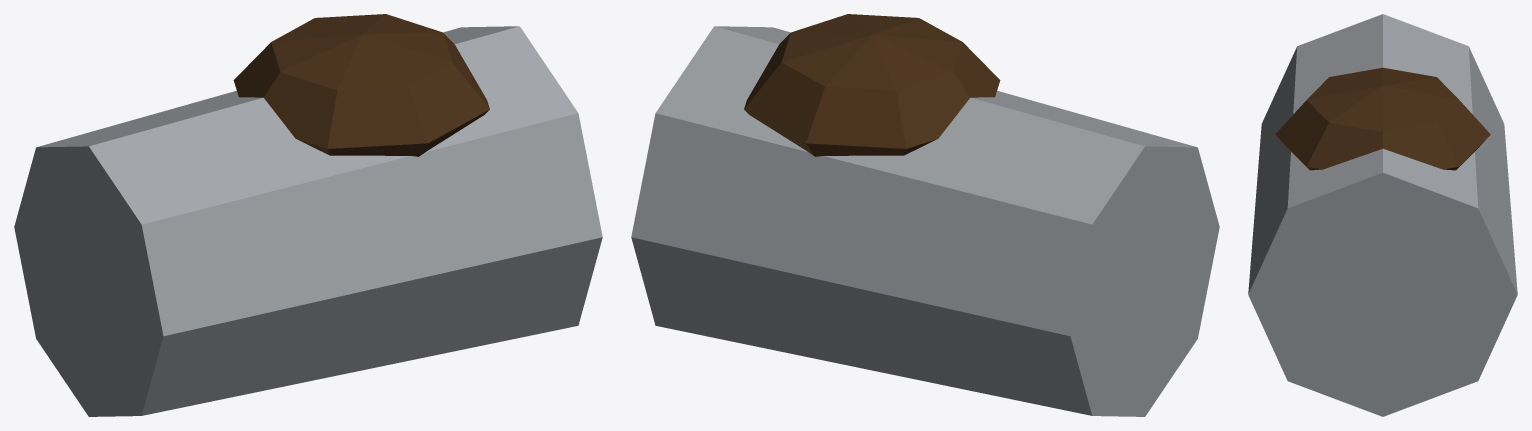
The model's file is mud_can.glb.
3 renders of one model, left to right at view 1: azimuth 30°, elevation 25°; view 2: azimuth 150°, elevation 25°; view 3: azimuth 270°, elevation 25°, orthographic. The views are drawn at different scales.
Parts seen in each view (by area): view 1: can_can_tin, mud_fresh_mud; view 2: can_can_tin, mud_fresh_mud; view 3: can_can_tin, mud_fresh_mud.
Part boxes in pixels (x1=…): can_can_tin: x1=14, y1=26, x2=602, y2=416; mud_fresh_mud: x1=233, y1=14, x2=489, y2=156; can_can_tin: x1=631, y1=26, x2=1219, y2=416; mud_fresh_mud: x1=744, y1=14, x2=1000, y2=156; can_can_tin: x1=1248, y1=14, x2=1517, y2=416; mud_fresh_mud: x1=1275, y1=67, x2=1490, y2=170.
Size of the model in its own units: 0.15 by 0.11 by 0.1.
